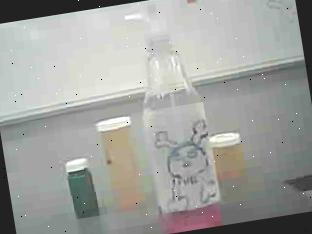Bottle A: (85, 108, 156, 218)
Bottle B: (210, 121, 254, 183)
Bottle C: (60, 146, 106, 218)
hazard: (115, 0, 233, 234)
